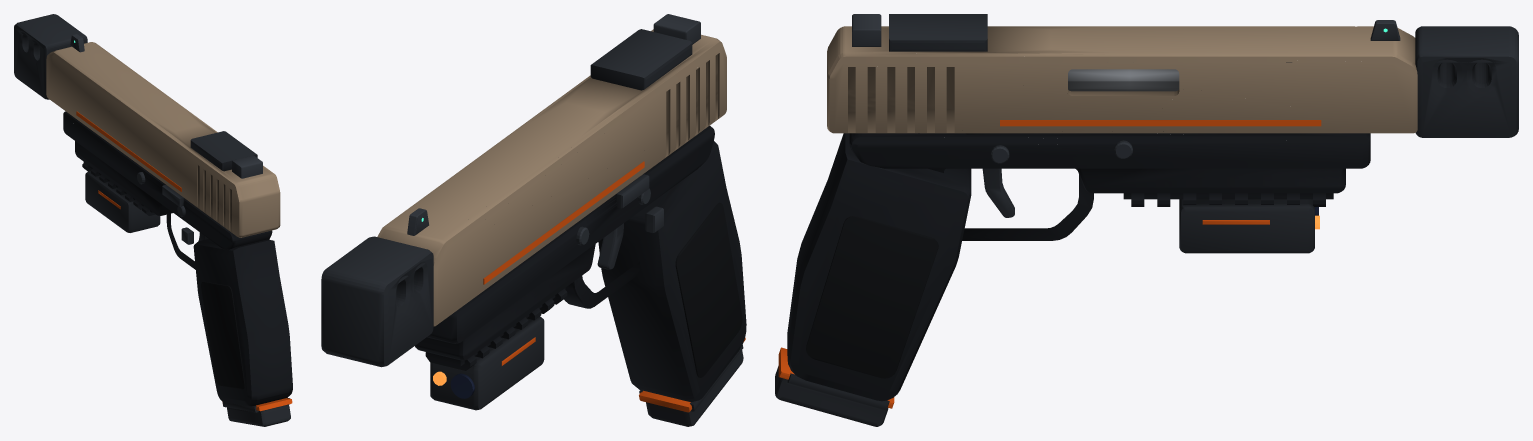
Rendered from talon-9.glb.
3 views of the same model, side by side, from view 1: azimuth 30°, elevation 25°; view 2: azimuth 150°, elevation 25°; view 3: azimuth 270°, elevation 25° (orthographic). The views are drawn at different scales.
Parts seen in each view (by area): view 1: bolt_frame, body_polymer, body_frame2, body_rubber, bolt_frame2, mag_frame2, bolt_steel, body_steel, bolt_accent; view 2: bolt_frame, body_polymer, body_frame2, body_rubber, bolt_frame2, body_steel, mag_frame2, bolt_steel, bolt_accent, mag_accent, body_lens; view 3: bolt_frame, body_polymer, body_frame2, body_rubber, bolt_frame2, bolt_bolt, mag_frame2, bolt_accent, bolt_steel, body_steel.
Boxes of the visible parts, x1,y1,x2,y2 form: bolt_frame: (46, 42, 280, 237); body_polymer: (63, 111, 292, 406); body_frame2: (14, 14, 289, 412); body_rubber: (201, 281, 244, 389); bolt_frame2: (190, 131, 257, 171); mag_frame2: (227, 404, 290, 426); bolt_steel: (70, 34, 262, 178); body_steel: (137, 172, 208, 244); bolt_accent: (76, 111, 181, 191); bolt_frame: (377, 29, 726, 326); body_polymer: (415, 125, 746, 401); body_frame2: (321, 236, 743, 411); body_rubber: (675, 202, 742, 377); bolt_frame2: (590, 29, 692, 90); body_steel: (576, 174, 663, 269); mag_frame2: (646, 350, 743, 426); bolt_steel: (407, 14, 700, 235); bolt_accent: (483, 161, 644, 284); mag_accent: (639, 337, 745, 412); body_lens: (450, 373, 474, 398); bolt_frame: (827, 26, 1417, 133); body_polymer: (787, 131, 1370, 401); body_frame2: (787, 26, 1518, 410); body_rubber: (806, 216, 938, 378); bolt_frame2: (889, 14, 987, 134); bolt_bolt: (1068, 69, 1179, 91); mag_frame2: (775, 366, 888, 426); bolt_accent: (1000, 120, 1321, 126); bolt_steel: (852, 14, 1400, 46); body_steel: (982, 62, 1291, 217).
Size of the model in its own units: 0.0355 by 0.1772 by 0.3011.
